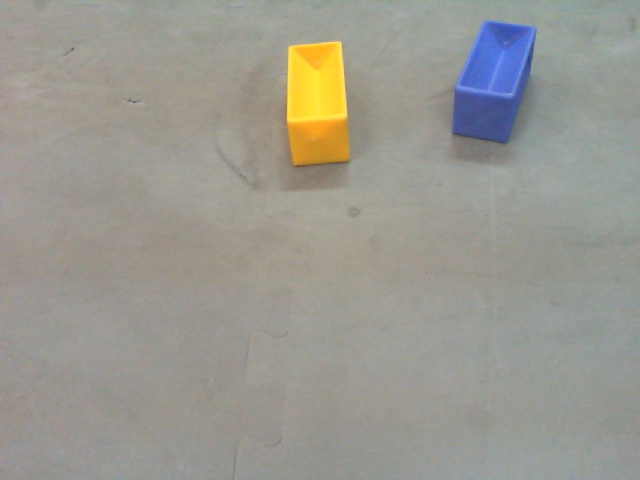BlueSample: (450, 18, 539, 147)
YellowSample: (285, 42, 353, 165)
